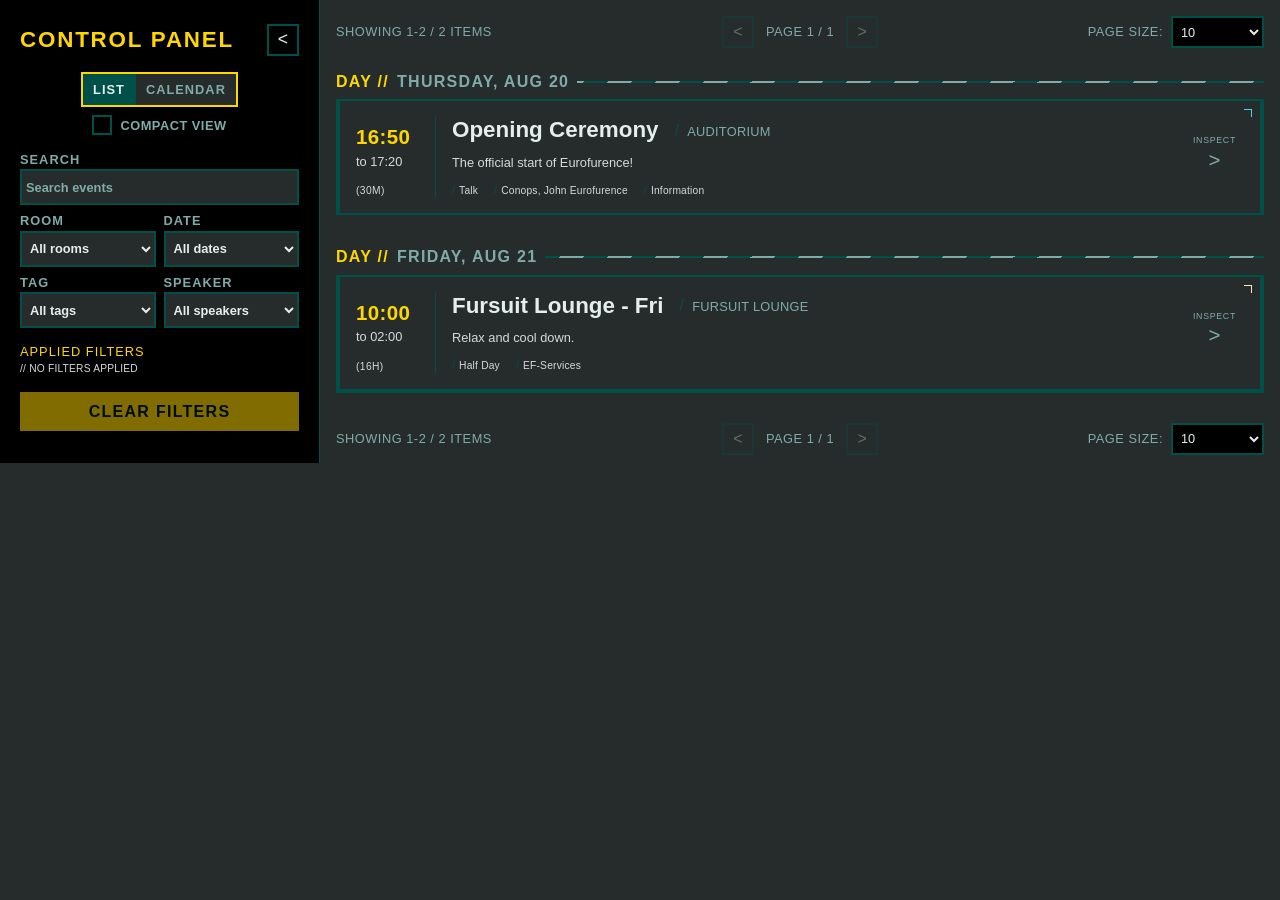
Test: Pages / SchedulePage › should switch to a day grid view
Click the button "Calendar" at (186, 90), box [136,74,236,105]
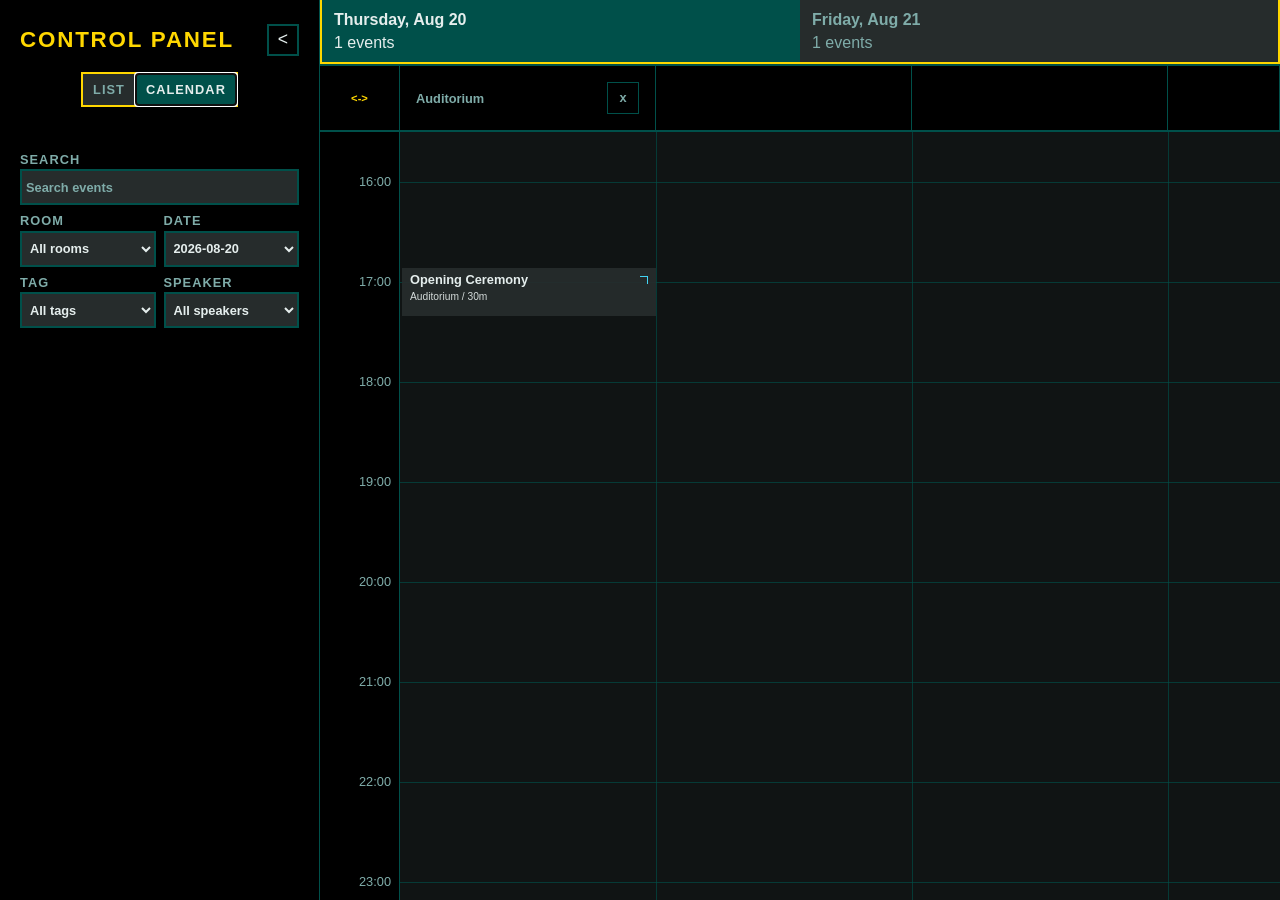
Check: the tab "Thursday, Aug 20 1 events" is shown, box [322,0,800,62]
Check: the tab "Friday, Aug 21 1 events" is shown
Check: the link "Opening Ceremony Auditorium / 30m" is shown, box [402,268,656,316]
Click the tab "Friday, Aug 21 1 events" at (866, 20), box [800,0,1278,62]
(page scrolled)
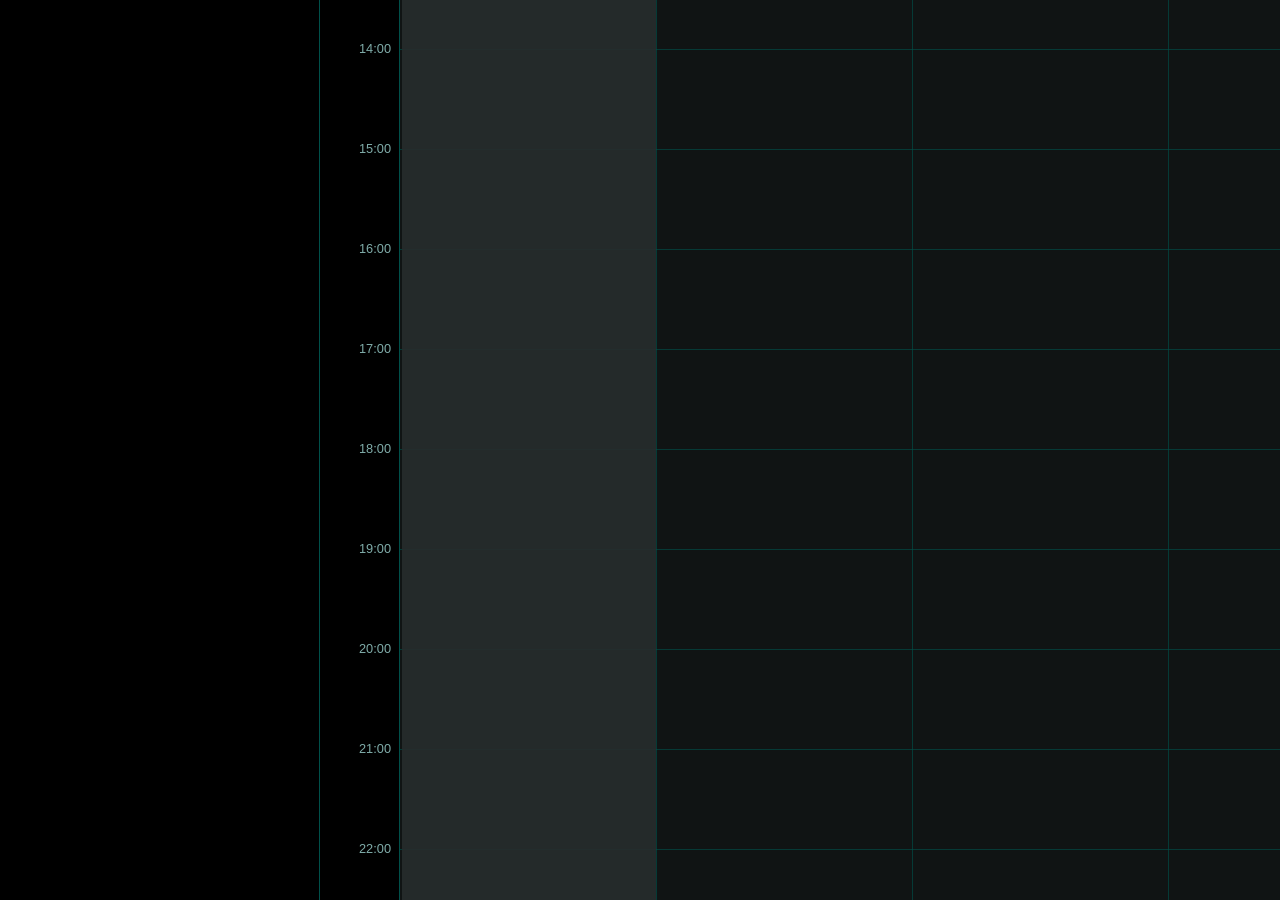
Check: the link "Opening Ceremony" is gone
